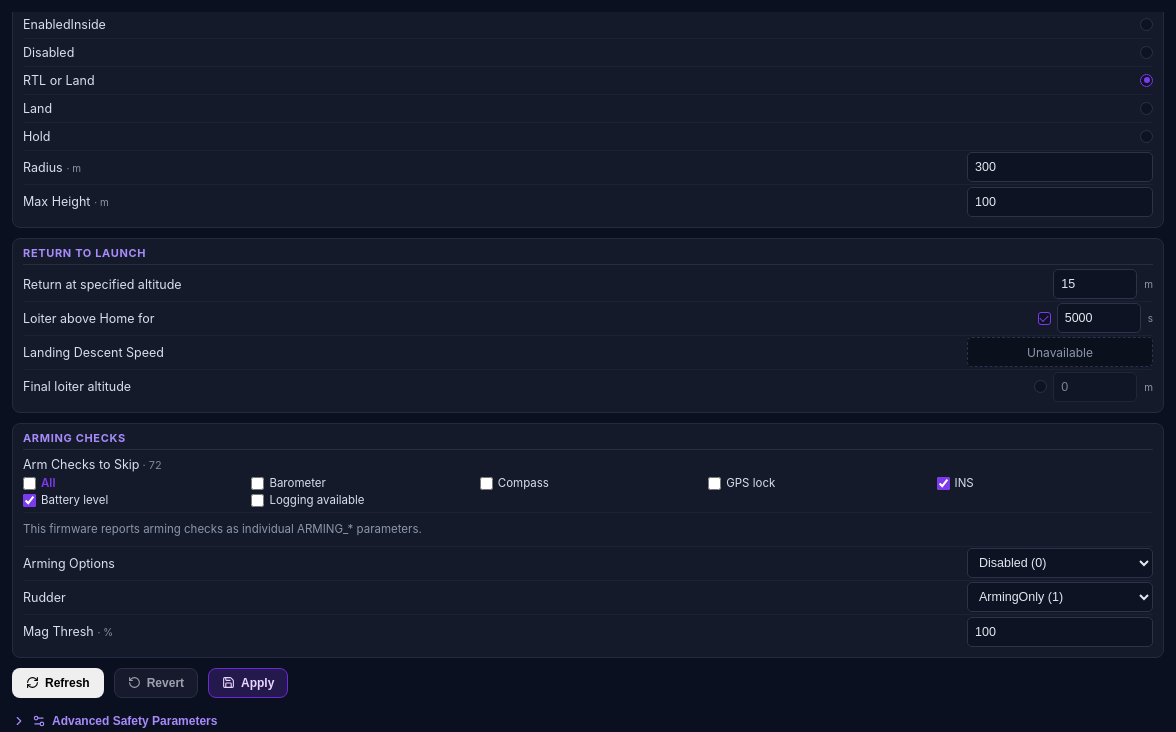
Test: SetupSafety — compact configuration form layout › keeps the QGC six-field Battery block and moves the extra parameters to Advanced
(page scrolled)
Still editable, just under the collapsed Advanced group.
Step 1. Click the button with test id "safety-advanced-toggle" → (115, 721), box [12,710,217,731]
(page scrolled)
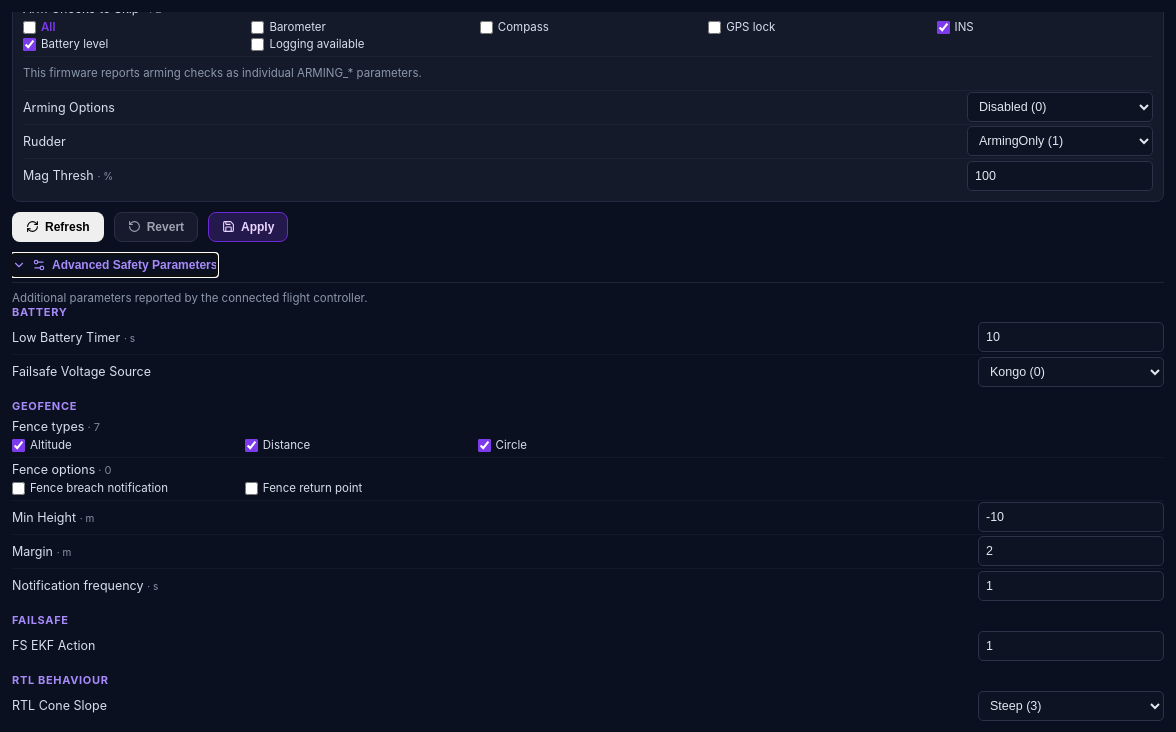
Expected: the number field with test id "safety-advanced-batt_low_timer" is shown, [978,322,1164,352]
Expected: the dropdown with test id "safety-advanced-batt_fs_voltsrc" is shown, [978,357,1164,387]
